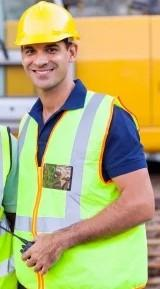hat: (10, 1, 96, 94)
vest: (17, 99, 160, 289), (1, 115, 35, 289)
